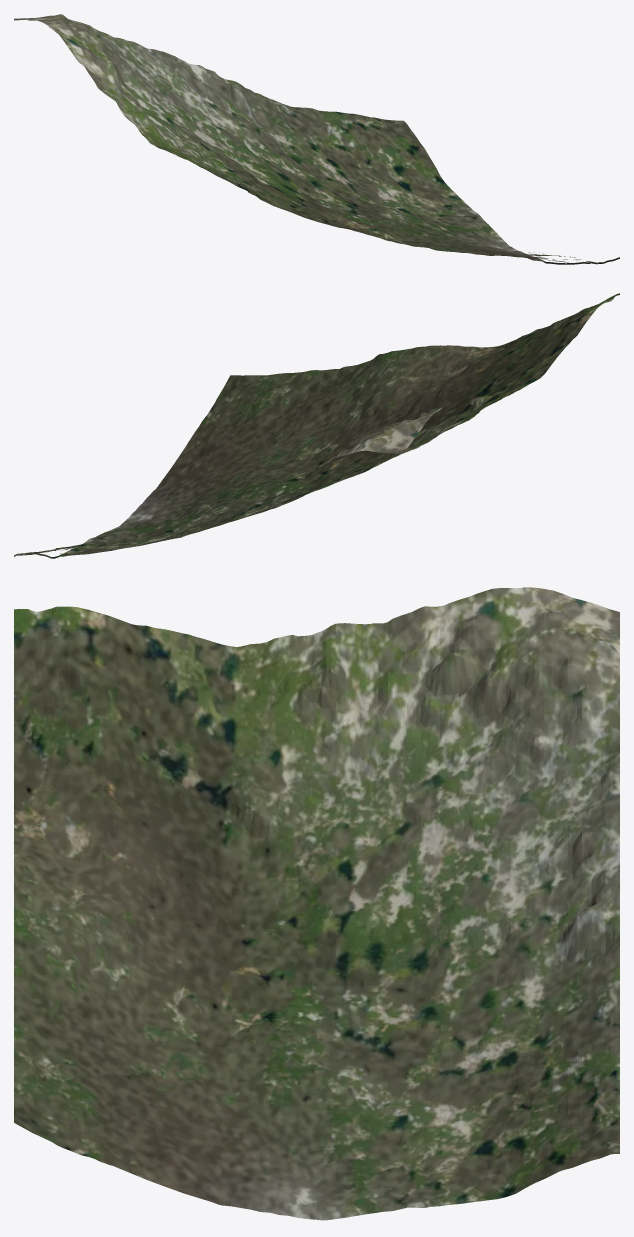
The picture shows the model from 3 angles, top to bottom: view 1: azimuth 30°, elevation 25°; view 2: azimuth 150°, elevation 25°; view 3: azimuth 270°, elevation 25°; orthographic projection. The views are drawn at different scales.
Bounding box in the file's own units: 250 × 162 × 241.
1 material, 1 textured.
